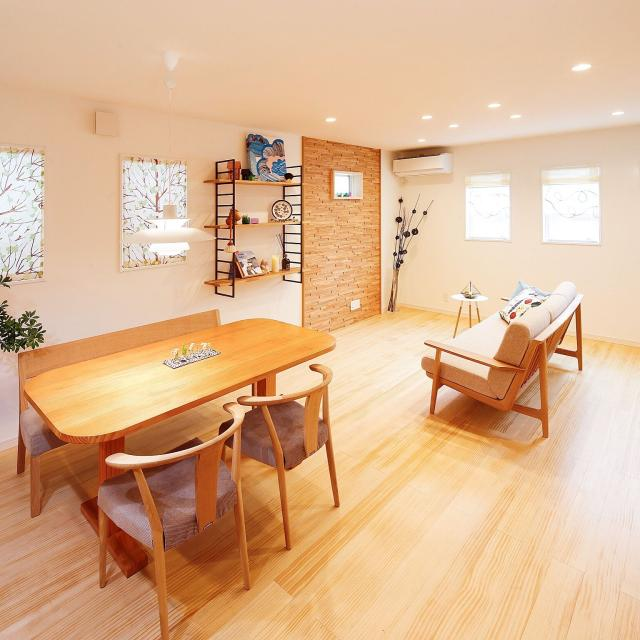natural chair: (95, 400, 257, 625), (235, 363, 343, 547)
natural desk: (30, 312, 342, 450)
natural sofa: (422, 280, 584, 440)
